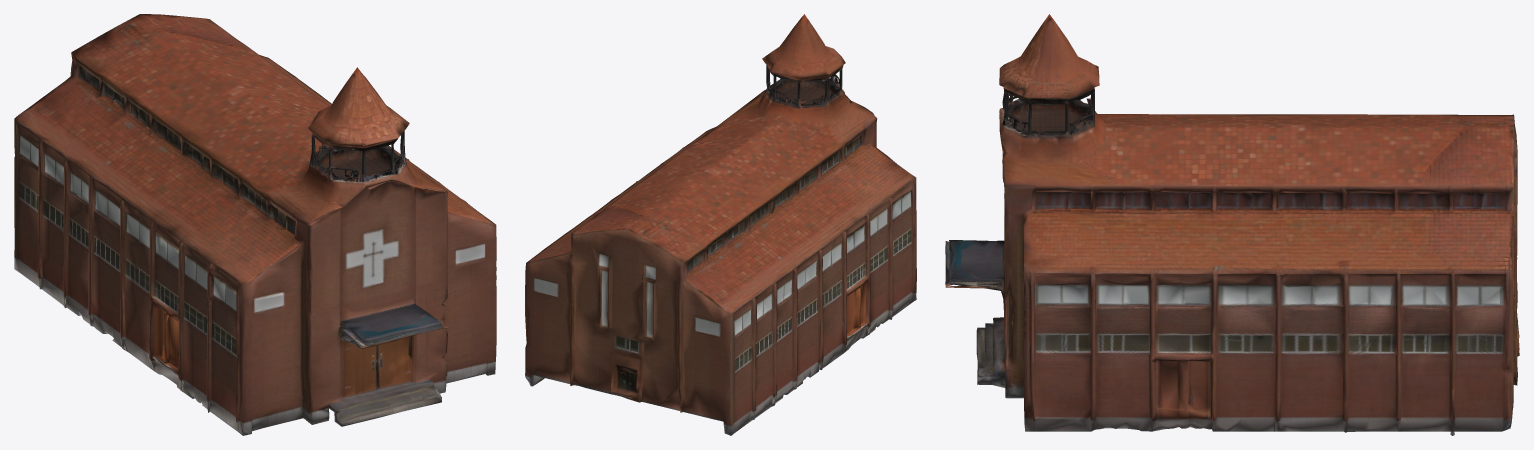
File: batiment.glb
The picture shows the model from 3 angles, left to right: view 1: azimuth 30°, elevation 25°; view 2: azimuth 150°, elevation 25°; view 3: azimuth 270°, elevation 25°; orthographic projection. The views are drawn at different scales.
Size of the model in its own units: 1.12 by 1.37 by 1.99.
Materials: 1 (1 with a texture image).
